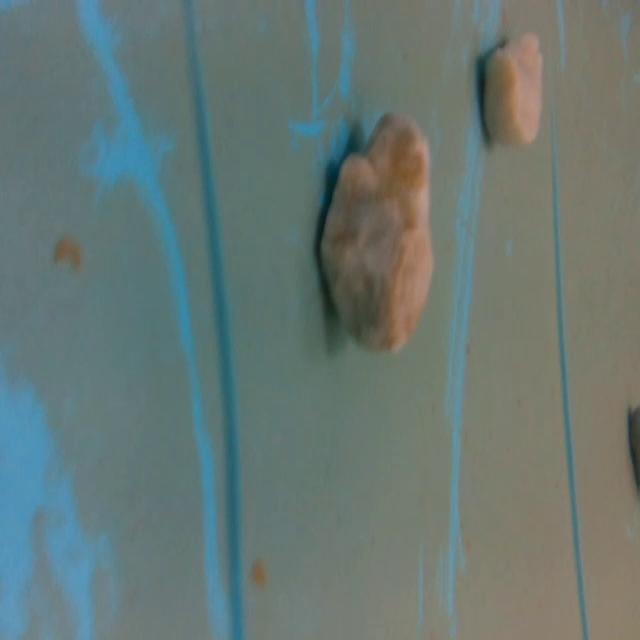rock: (310, 99, 440, 366), (475, 26, 547, 157)
